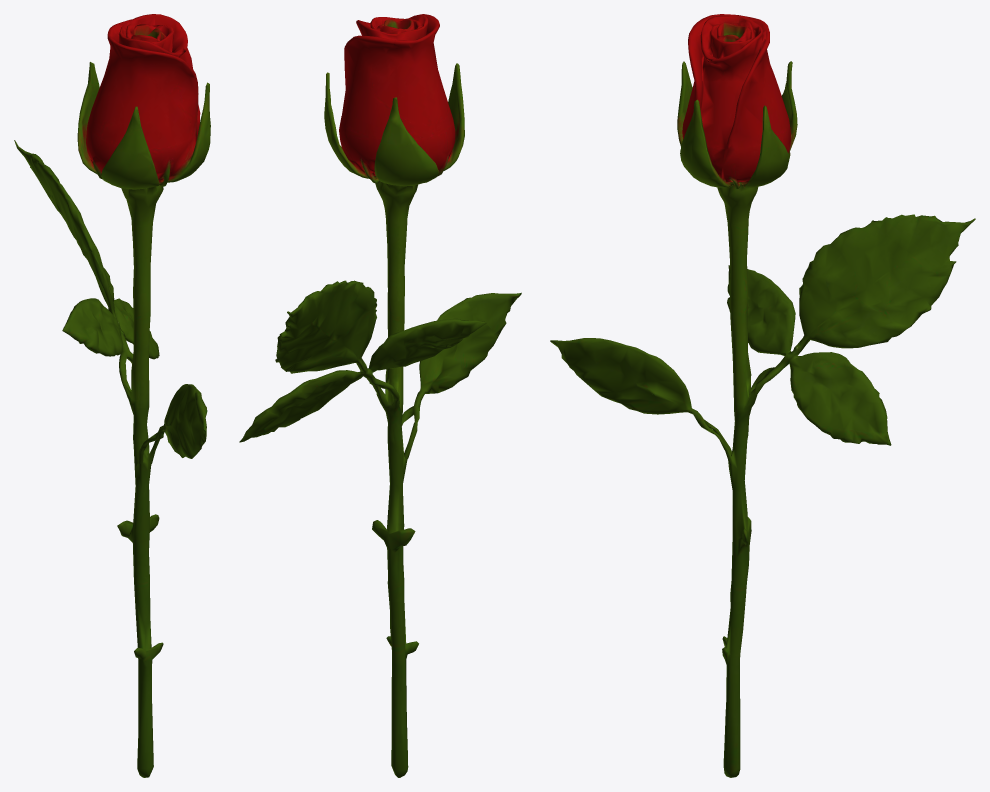
The model's file is Small Rose.glb.
3 views of the same model, side by side, from view 1: azimuth 30°, elevation 25°; view 2: azimuth 150°, elevation 25°; view 3: azimuth 270°, elevation 25° (orthographic).
Visible parts, largest first — view 1: tripo_node_43f2ae53-e0d0-4391-a2f9-b22ad7b512fe; view 2: tripo_node_43f2ae53-e0d0-4391-a2f9-b22ad7b512fe; view 3: tripo_node_43f2ae53-e0d0-4391-a2f9-b22ad7b512fe.
Boxes of the visible parts, x1,y1,x2,y2 form: tripo_node_43f2ae53-e0d0-4391-a2f9-b22ad7b512fe: (14,14,210,777); tripo_node_43f2ae53-e0d0-4391-a2f9-b22ad7b512fe: (239,14,521,777); tripo_node_43f2ae53-e0d0-4391-a2f9-b22ad7b512fe: (550,14,975,777).
Bounding box in the file's own units: 0.2294 × 0.9996 × 0.5126.
1 material, 1 textured.
